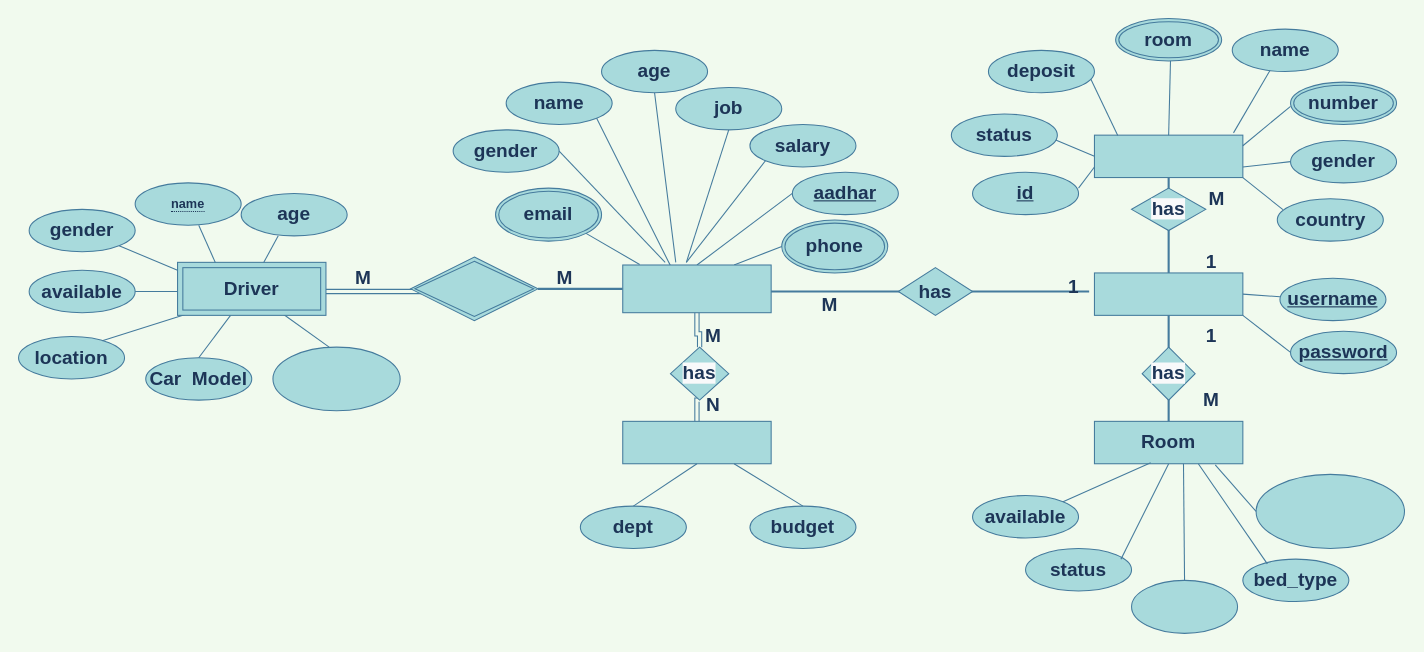
Image size: 1424x652. Some labels were removed from this diagram. The centre of each missing label's shape, as x and y in pixels:
"Car Company" belongs at [336,378].
"Customer" belongs at [1168,156].
"Department" belongs at [696,442].
"Employee" belongs at [696,288].
"is" belongs at [474,288].
"Login" belongs at [1168,293].
"price" belongs at [1184,606].
"room_number" belongs at [1329,511].
